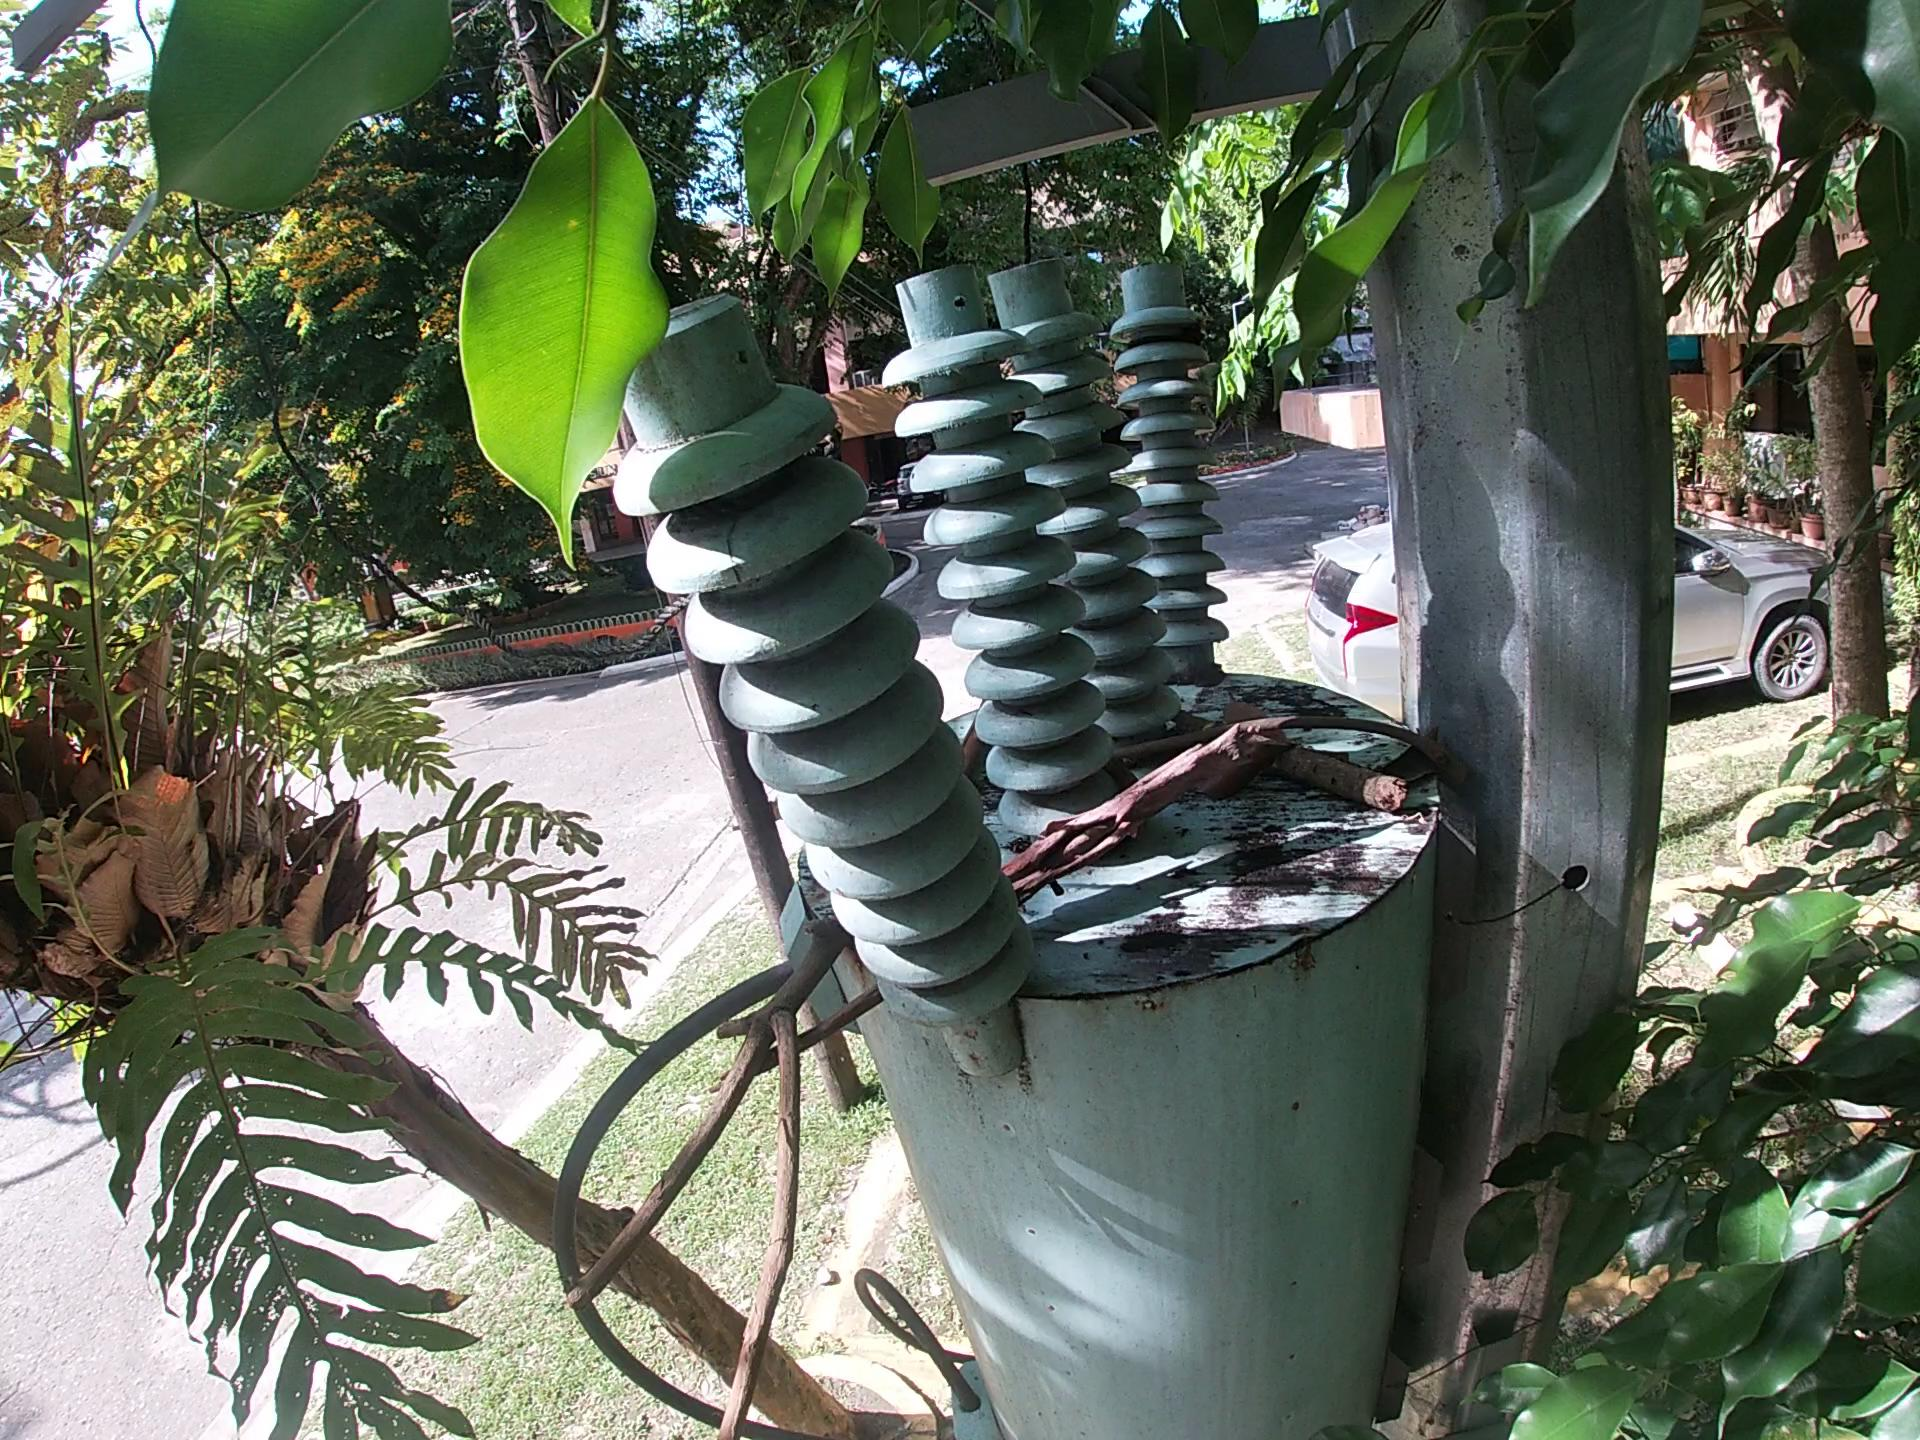leaf: (1225, 691, 1308, 731)
tree branch: (526, 911, 828, 1440), (1008, 731, 1293, 903), (1098, 734, 1423, 811), (1095, 715, 1485, 777), (958, 722, 989, 793)
